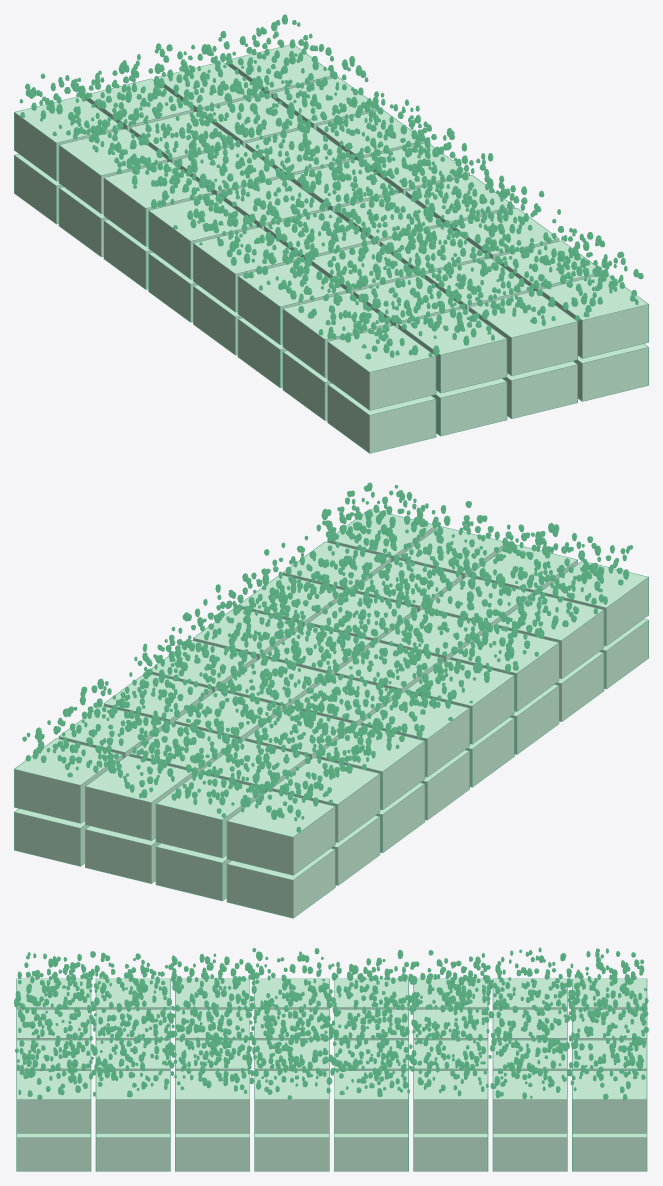
The model's file is hero-object.glb.
3 renders of one model, top to bottom at view 1: azimuth 30°, elevation 25°; view 2: azimuth 150°, elevation 25°; view 3: azimuth 270°, elevation 25°, orthographic. The views are drawn at different scales.
Visible parts, largest first — view 1: B_1_0_0, B_1_2_0, B_1_1_0, B_1_3_0, B_0_0_0, B_1_0_6, B_1_0_2, B_1_0_5, B_1_0_7, B_1_0_4, B_1_0_1, B_1_0_3 (+31 smaller); view 2: B_1_0_7, B_1_2_7, B_1_3_7, B_1_1_7, B_0_0_7, B_1_0_6, B_1_0_2, B_1_0_1, B_1_0_3, B_1_0_4, B_1_0_5, B_1_0_0 (+31 smaller); view 3: B_1_3_7, B_1_3_5, B_1_3_1, B_1_3_3, B_1_3_2, B_1_3_0, B_1_3_6, B_1_3_4, B_0_3_3, B_0_3_0, B_0_3_1, B_0_3_5 (+28 smaller).
Boxes of the visible parts, box(x1,y1,x2,y2) form: B_1_0_0: box(327, 325, 436, 410); B_1_2_0: box(469, 290, 577, 375); B_1_1_0: box(398, 308, 507, 393); B_1_3_0: box(541, 275, 648, 358); B_0_0_0: box(327, 383, 436, 453); B_1_0_6: box(58, 128, 167, 213); B_1_0_2: box(237, 261, 346, 344); B_1_0_5: box(103, 161, 212, 246); B_1_0_7: box(14, 96, 122, 181); B_1_0_4: box(148, 194, 257, 279); B_1_0_1: box(282, 292, 391, 377); B_1_0_3: box(193, 227, 300, 312); B_1_0_7: box(226, 791, 335, 875); B_1_2_7: box(85, 755, 192, 840); B_1_3_7: box(14, 738, 122, 823); B_1_1_7: box(155, 772, 262, 858); B_0_0_7: box(226, 848, 335, 918); B_1_0_6: box(272, 757, 380, 842); B_1_0_2: box(450, 626, 559, 711); B_1_0_1: box(496, 594, 604, 678); B_1_0_3: box(405, 659, 514, 744); B_1_0_4: box(361, 691, 469, 777); B_1_0_5: box(316, 724, 425, 809); B_1_0_0: box(540, 561, 648, 646); B_1_3_7: box(572, 1070, 647, 1133); B_1_3_5: box(413, 1070, 488, 1133); B_1_3_1: box(95, 1070, 170, 1133); B_1_3_3: box(254, 1070, 329, 1133); B_1_3_2: box(175, 1070, 249, 1133); B_1_3_0: box(16, 1070, 91, 1133); B_1_3_6: box(492, 1070, 567, 1133); B_1_3_4: box(334, 1070, 408, 1133); B_0_3_3: box(254, 1133, 329, 1171); B_0_3_0: box(16, 1133, 91, 1171); B_0_3_1: box(95, 1133, 170, 1171); B_0_3_5: box(413, 1133, 488, 1171).
Size of the model in its own units: 4.29 by 1.75 by 9.36.
